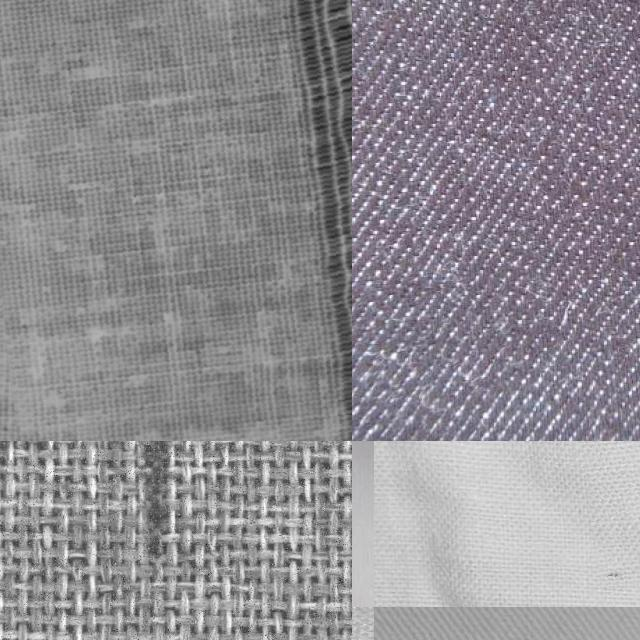Hole: (584, 441, 640, 585)
